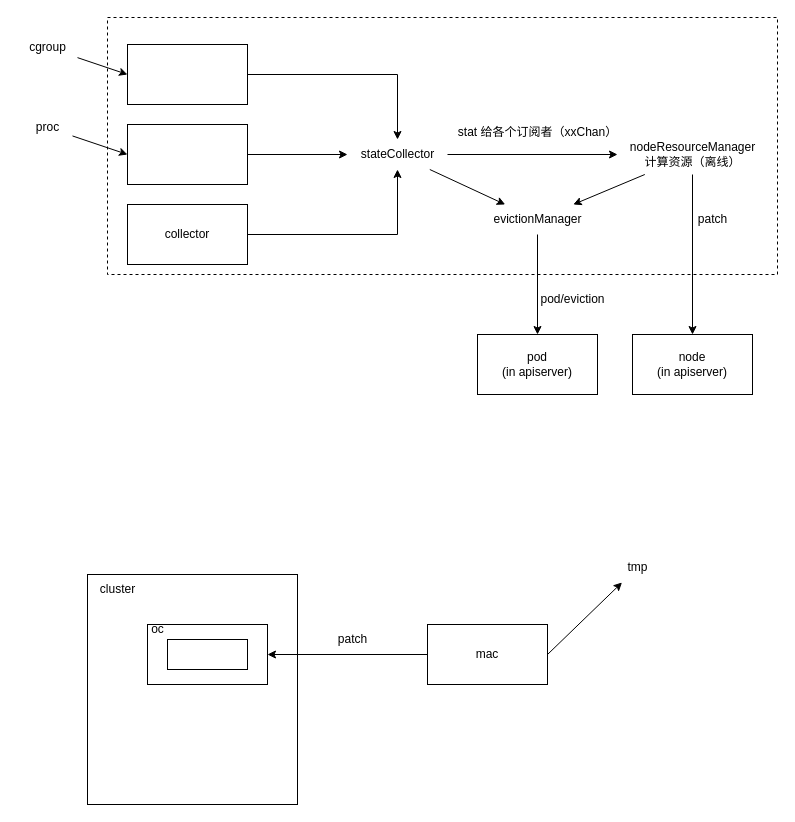
Image size: 795x822. Some labels were removed from this diagram. Each missing label, with the centre of its shape:
"collector (nodeLocal)" goes at (x=187, y=154).
"collector cadivisor" goes at (x=187, y=74).
"crane agent" goes at (x=207, y=654).
